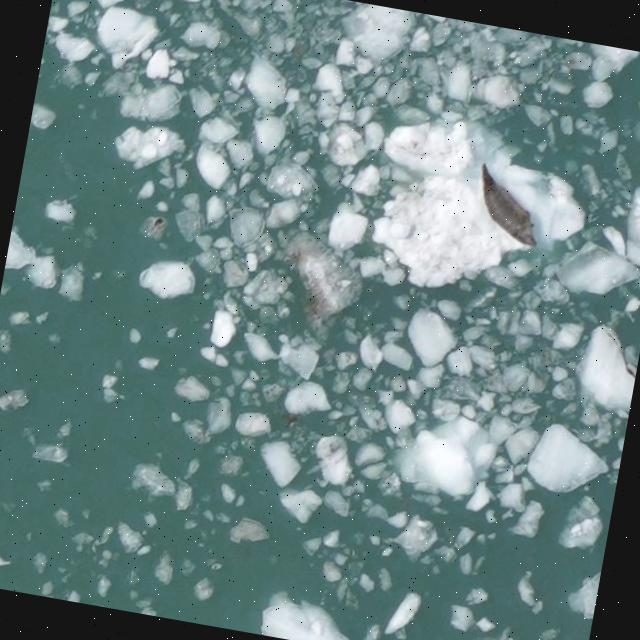seal: (458, 161, 548, 256)
